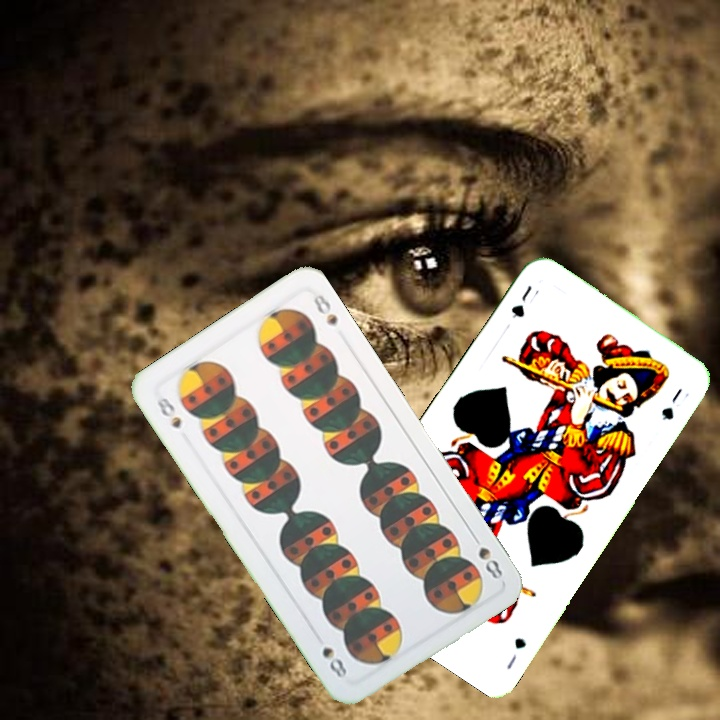GU: (506, 281, 535, 321), (502, 633, 529, 672)
S8: (467, 529, 506, 582), (152, 393, 184, 432)
